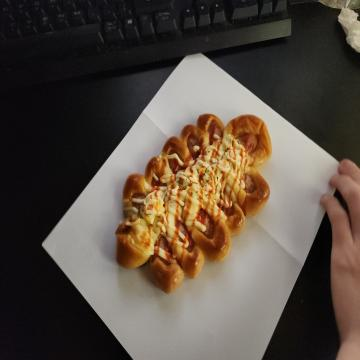pizza_bread: (114, 113, 272, 295)
